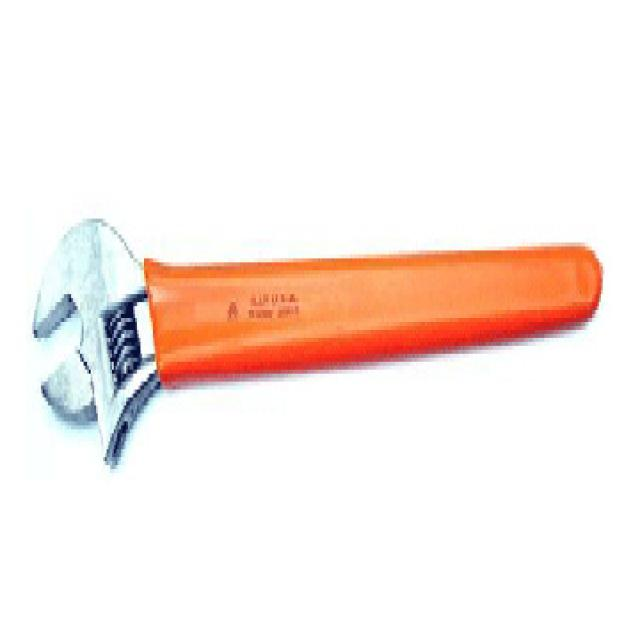wrench: (15, 194, 638, 543)
